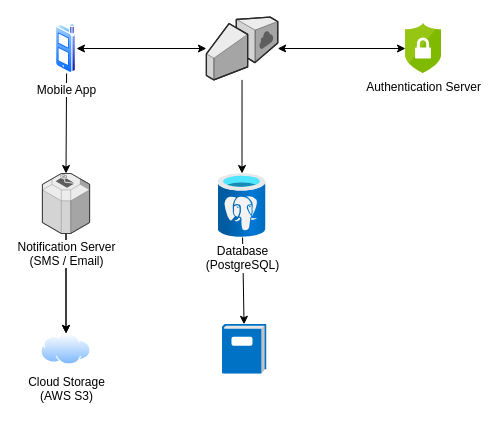
Some shapes in this 498 by 428 pixel diagram are drawn without their labels. The shapes that lost their labels are listed below. From the top down, each one's centre as x and y in pixels, then its label:
At point 241,48: "API Gateway".
At point 244,349: "Loan Processing Service".
